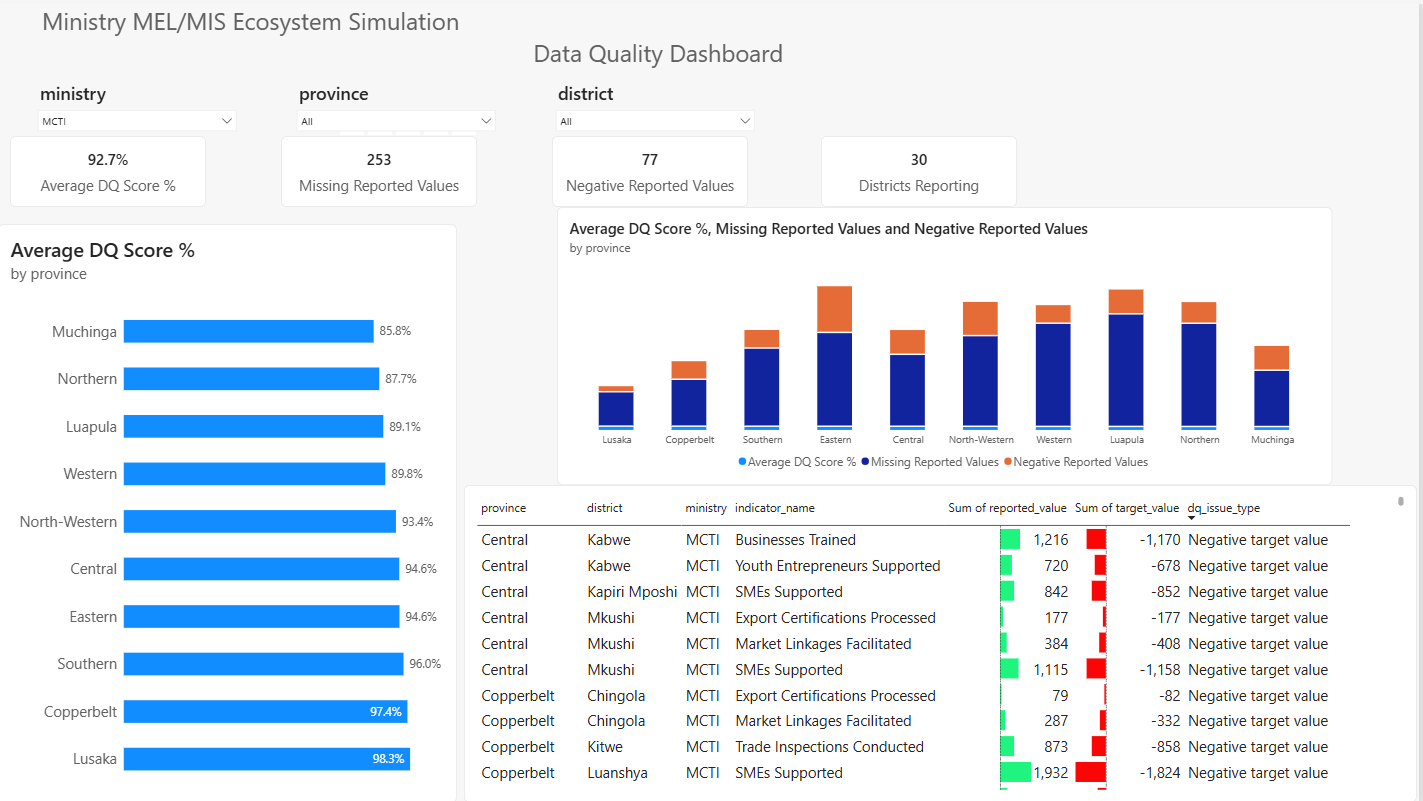

This screenshot's page, from the dashboard's own definition file:
{"tool":"powerbi","page":{"name":"Data Quality Dashboard","canvas":[1920,1080],"ordinal":2},"visuals":[{"type":"textbox","box":[59.7,0,1665.9,88.9],"z":0},{"type":"slicer","fields":{"Values":["dim_ministry.ministry"]},"box":[48.6,103.5,279,70],"z":1000},{"type":"slicer","fields":{"Values":["pbi_dq_exceptions.district"]},"box":[749.2,103.5,279.5,70],"z":2000},{"type":"card","fields":{"Values":["_Measures.Average DQ Score %"]},"box":[16.1,179,265,96],"z":3000},{"type":"card","fields":{"Values":["_Measures.Missing Reported Values"]},"box":[382.4,178.8,265,96],"z":4000},{"type":"card","fields":{"Values":["_Measures.Negative Reported Values"]},"box":[748.2,179,265,96],"z":5000},{"type":"card","fields":{"Values":["_Measures.Districts Reporting"]},"box":[1112.7,178.8,265,96],"z":6000},{"type":"clusteredBarChart","fields":{"Category":["dim_province.province"],"Y":["_Measures.Average DQ Score %"]},"box":[0,297,619.9,782.8],"z":7000},{"type":"columnChart","fields":{"Category":["dim_province.province"],"Y":["_Measures.Average DQ Score %","_Measures.Missing Reported Values","_Measures.Negative Reported Values"]},"box":[755.4,275.1,1048.3,376.3],"z":8000},{"type":"tableEx","fields":{"Values":["pbi_dq_exceptions.province","pbi_dq_exceptions.district","pbi_dq_exceptions.ministry","pbi_dq_exceptions.indicator_name","Sum(pbi_dq_exceptions.reported_value)","Sum(pbi_dq_exceptions.target_value)","pbi_dq_exceptions.dq_issue_type"]},"box":[630.1,650.5,1288.4,429.5],"z":9000},{"type":"slicer","fields":{"Values":["dim_province.province"]},"box":[398.7,103.5,279.5,70],"z":11000}]}

Visuals, with their boxes in screenshot pixels (x1, y1, x2, y2), scaled from the page's 1920x1080 canvas onto the 1423x801 screenshot:
textbox: bbox=[44, 0, 1279, 66]
slicer - dim_ministry.ministry: bbox=[36, 77, 243, 129]
slicer - pbi_dq_exceptions.district: bbox=[555, 77, 762, 129]
card - _Measures.Average DQ Score %: bbox=[12, 133, 208, 204]
card - _Measures.Missing Reported Values: bbox=[283, 133, 480, 204]
card - _Measures.Negative Reported Values: bbox=[555, 133, 751, 204]
card - _Measures.Districts Reporting: bbox=[825, 133, 1021, 204]
clusteredBarChart - dim_province.province x _Measures.Average DQ Score %: bbox=[0, 220, 459, 800]
columnChart - dim_province.province x _Measures.Average DQ Score %: bbox=[560, 204, 1337, 483]
tableEx - pbi_dq_exceptions.province x pbi_dq_exceptions.district: bbox=[467, 482, 1422, 800]
slicer - dim_province.province: bbox=[295, 77, 503, 129]
